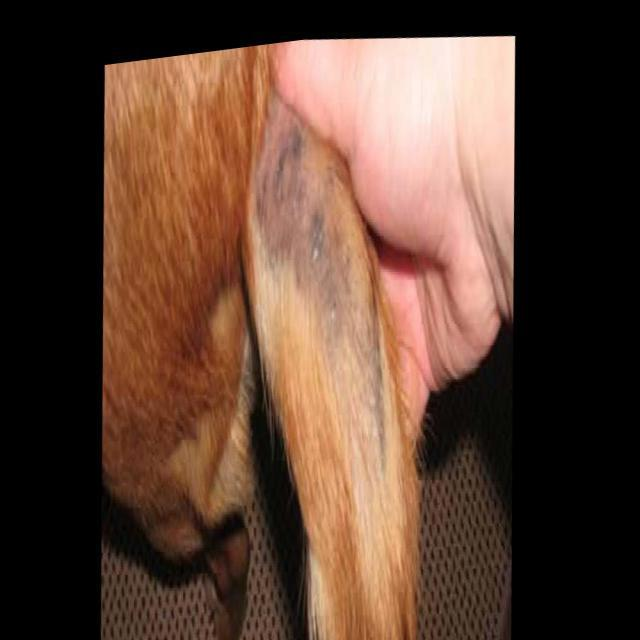allergic dermatitis: (251, 112, 358, 311), (313, 254, 389, 482)
